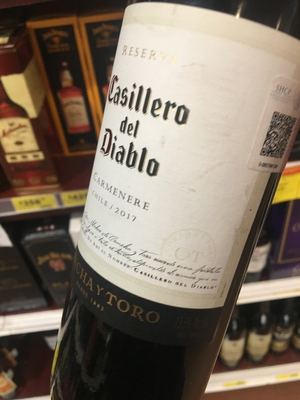casillero del diablo carmenere: (64, 6, 299, 398)
